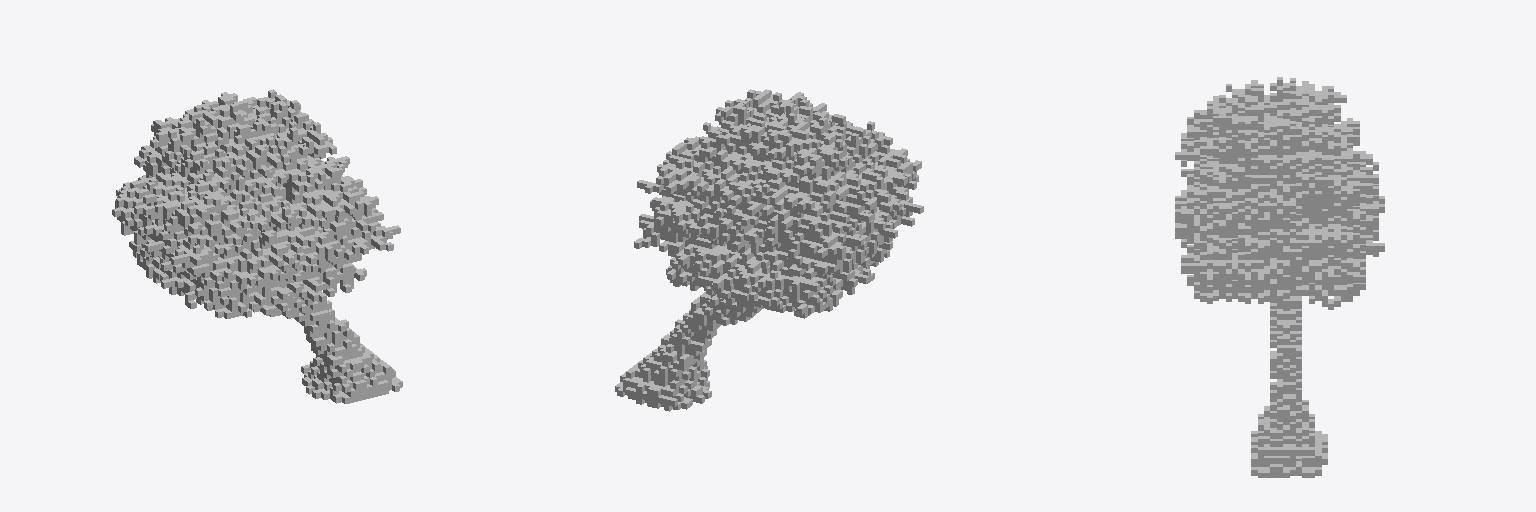
Rendered from sakura.obj.
3 views of the same model, side by side, from view 1: azimuth 30°, elevation 25°; view 2: azimuth 150°, elevation 25°; view 3: azimuth 270°, elevation 25° (orthographic).
Visible parts, largest first — view 1: object 1; view 2: object 1; view 3: object 1.
Part boxes in pixels (left/top/right/bottom): object 1: left=112, top=89, right=402, bottom=403; object 1: left=615, top=89, right=923, bottom=411; object 1: left=1175, top=77, right=1384, bottom=477.
Bounding box in the file's own units: 9.8 × 10.8 × 6.6.